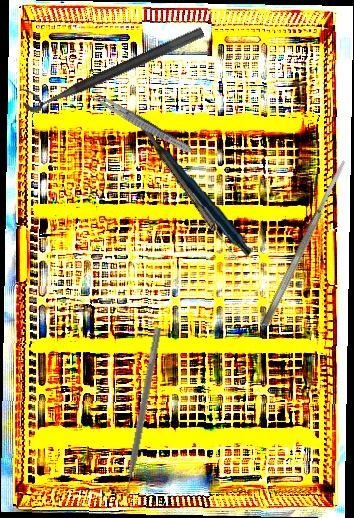Dressing Forceps: (87, 89, 195, 157)
Fixation Ring: (17, 11, 206, 117)
Handpiece: (138, 108, 254, 263)
Spatula Surgical: (259, 158, 350, 328), (117, 326, 162, 499)
Surgical Spoon: (140, 128, 243, 264)
